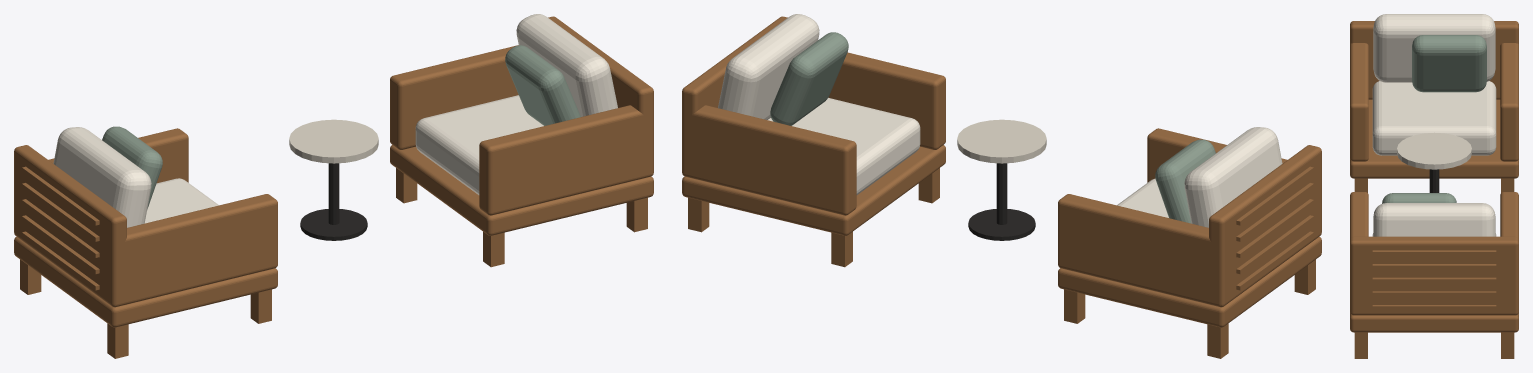
Rendered from balcony_set.glb.
The picture shows the model from 3 angles, left to right: view 1: azimuth 30°, elevation 25°; view 2: azimuth 150°, elevation 25°; view 3: azimuth 270°, elevation 25°; orthographic projection. The views are drawn at different scales.
Parts seen in each view (by area): view 1: MAT_teak_0, MAT_outdoor_fabric_1, MAT_outdoor_accent_2, MAT_table_stone_3, MAT_dark_metal_4; view 2: MAT_teak_0, MAT_outdoor_fabric_1, MAT_outdoor_accent_2, MAT_table_stone_3, MAT_dark_metal_4; view 3: MAT_teak_0, MAT_outdoor_fabric_1, MAT_outdoor_accent_2, MAT_table_stone_3, MAT_dark_metal_4.
Boxes of the visible parts, bbox=[...] form: MAT_teak_0: bbox=[14, 16, 653, 358]; MAT_outdoor_fabric_1: bbox=[53, 14, 617, 227]; MAT_outdoor_accent_2: bbox=[102, 45, 580, 208]; MAT_table_stone_3: bbox=[289, 119, 378, 163]; MAT_dark_metal_4: bbox=[300, 163, 367, 240]; MAT_teak_0: bbox=[682, 16, 1321, 358]; MAT_outdoor_fabric_1: bbox=[718, 14, 1282, 227]; MAT_outdoor_accent_2: bbox=[770, 32, 1215, 223]; MAT_table_stone_3: bbox=[957, 119, 1046, 163]; MAT_dark_metal_4: bbox=[968, 163, 1035, 240]; MAT_teak_0: bbox=[1350, 21, 1518, 358]; MAT_outdoor_fabric_1: bbox=[1372, 14, 1496, 236]; MAT_outdoor_accent_2: bbox=[1382, 35, 1486, 203]; MAT_table_stone_3: bbox=[1397, 132, 1471, 169]; MAT_dark_metal_4: bbox=[1429, 169, 1439, 192].
Bounding box in the file's own units: 2.84 × 0.8199 × 0.9.
